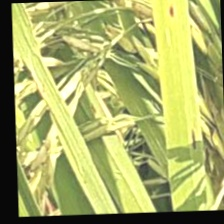Bacterial_Leaf_Blight: (167, 1, 179, 27), (187, 124, 197, 153)
